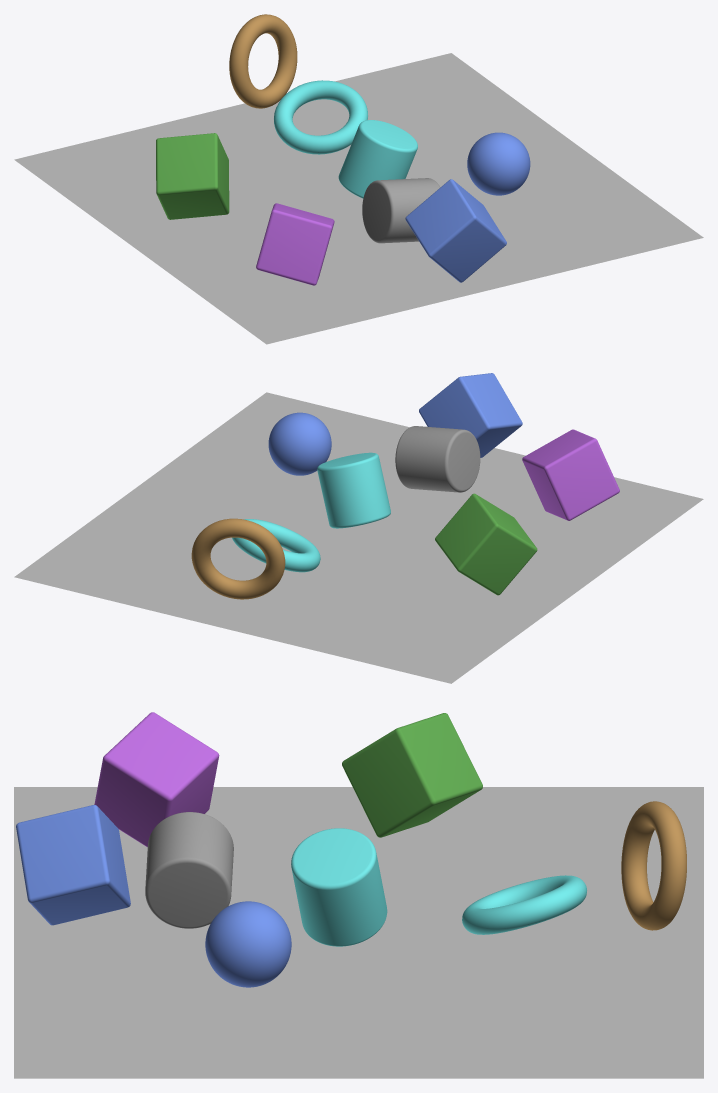
The picture shows the model from 3 angles, top to bottom: view 1: azimuth 30°, elevation 25°; view 2: azimuth 150°, elevation 25°; view 3: azimuth 270°, elevation 25°; orthographic projection. The views are drawn at different scales.
Visible parts, largest first — view 1: Cube, FileBasedObject.002, FileBasedObject.007, FileBasedObject.003, FileBasedObject.006, FileBasedObject.004, FileBasedObject.005, FileBasedObject.001, FileBasedObject; view 2: Cube, FileBasedObject.007, FileBasedObject.003, FileBasedObject.001, FileBasedObject.002, FileBasedObject.006, FileBasedObject.005, FileBasedObject, FileBasedObject.004; view 3: Cube, FileBasedObject.007, FileBasedObject.002, FileBasedObject.003, FileBasedObject.006, FileBasedObject.001, FileBasedObject.005, FileBasedObject, FileBasedObject.004.
Boxes of the visible parts, bbox=[...] form: Cube: bbox=[14, 53, 703, 344]; FileBasedObject.002: bbox=[405, 179, 506, 282]; FileBasedObject.007: bbox=[156, 133, 229, 219]; FileBasedObject.003: bbox=[256, 203, 334, 285]; FileBasedObject.006: bbox=[338, 120, 417, 198]; FileBasedObject.004: bbox=[274, 80, 367, 154]; FileBasedObject.005: bbox=[229, 14, 297, 108]; FileBasedObject.001: bbox=[362, 178, 440, 243]; FileBasedObject: bbox=[467, 132, 530, 195]; Cube: bbox=[14, 392, 703, 683]; FileBasedObject.007: bbox=[435, 493, 537, 595]; FileBasedObject.003: bbox=[522, 429, 619, 520]; FileBasedObject.001: bbox=[395, 426, 480, 492]; FileBasedObject.002: bbox=[419, 373, 522, 457]; FileBasedObject.006: bbox=[317, 452, 390, 528]; FileBasedObject.005: bbox=[191, 518, 285, 599]; FileBasedObject: bbox=[268, 412, 331, 475]; FileBasedObject.004: bbox=[232, 519, 320, 572]; Cube: bbox=[14, 787, 703, 1078]; FileBasedObject.007: bbox=[342, 713, 482, 837]; FileBasedObject.002: bbox=[16, 805, 130, 925]; FileBasedObject.003: bbox=[94, 712, 219, 846]; FileBasedObject.006: bbox=[291, 828, 387, 946]; FileBasedObject.001: bbox=[145, 812, 233, 928]; FileBasedObject.005: bbox=[621, 801, 686, 930]; FileBasedObject: bbox=[205, 901, 291, 987]; FileBasedObject.004: bbox=[462, 875, 586, 934].
Size of the model in its own units: 8 by 1.7 by 8.
